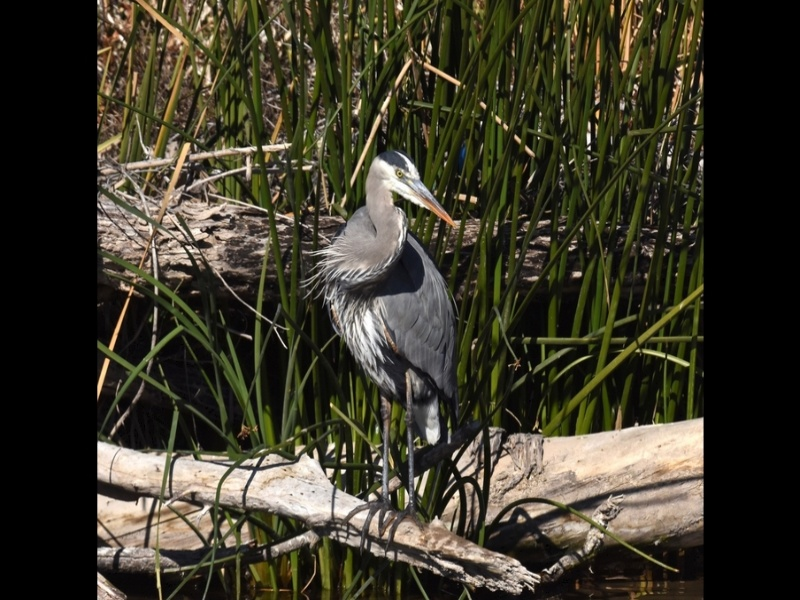heron: (314, 149, 471, 516)
